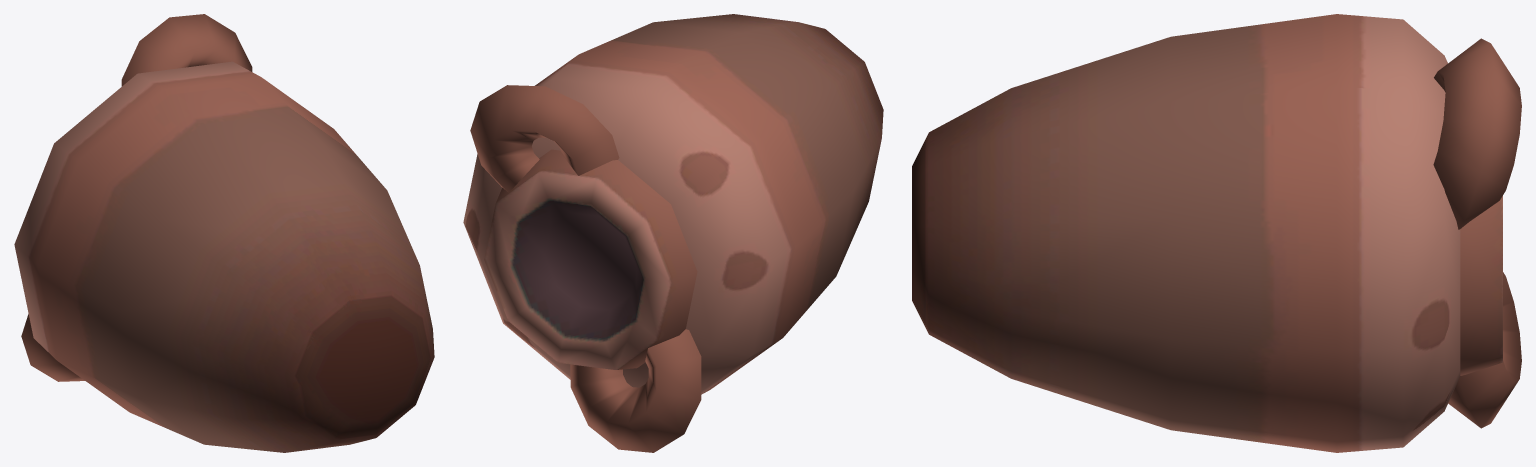
Rendered from Pottery_03_Solid.fbx.
The picture shows the model from 3 angles, left to right: view 1: azimuth 30°, elevation 25°; view 2: azimuth 150°, elevation 25°; view 3: azimuth 270°, elevation 25°; orthographic projection. The views are drawn at different scales.
Parts seen in each view (by area): view 1: Pottery_03_Solid; view 2: Pottery_03_Solid; view 3: Pottery_03_Solid.
Part boxes in pixels (box(x1,y1,x2,y2)): Pottery_03_Solid: box(14, 14, 434, 452); Pottery_03_Solid: box(463, 14, 883, 452); Pottery_03_Solid: box(912, 14, 1521, 452).
Size of the model in its own units: 205 by 214 by 279.
1 material, 1 textured.
